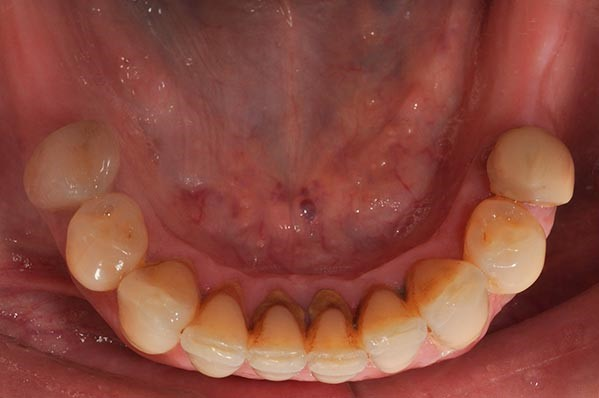LL1BC_decay: (465, 197, 546, 291)
LL2BC_decay: (489, 131, 578, 204)
LLCI_decay: (310, 293, 364, 377)
LLC_decay: (413, 258, 493, 342)
LLLI_decay: (362, 293, 425, 364)
LR1BC_healthy: (68, 197, 143, 275)
LR2BC_healthy: (27, 128, 120, 194)
LRCI_decay: (248, 303, 310, 381)
LRC_healthy: (121, 264, 189, 346)
LRLI_decay: (192, 291, 247, 376)
